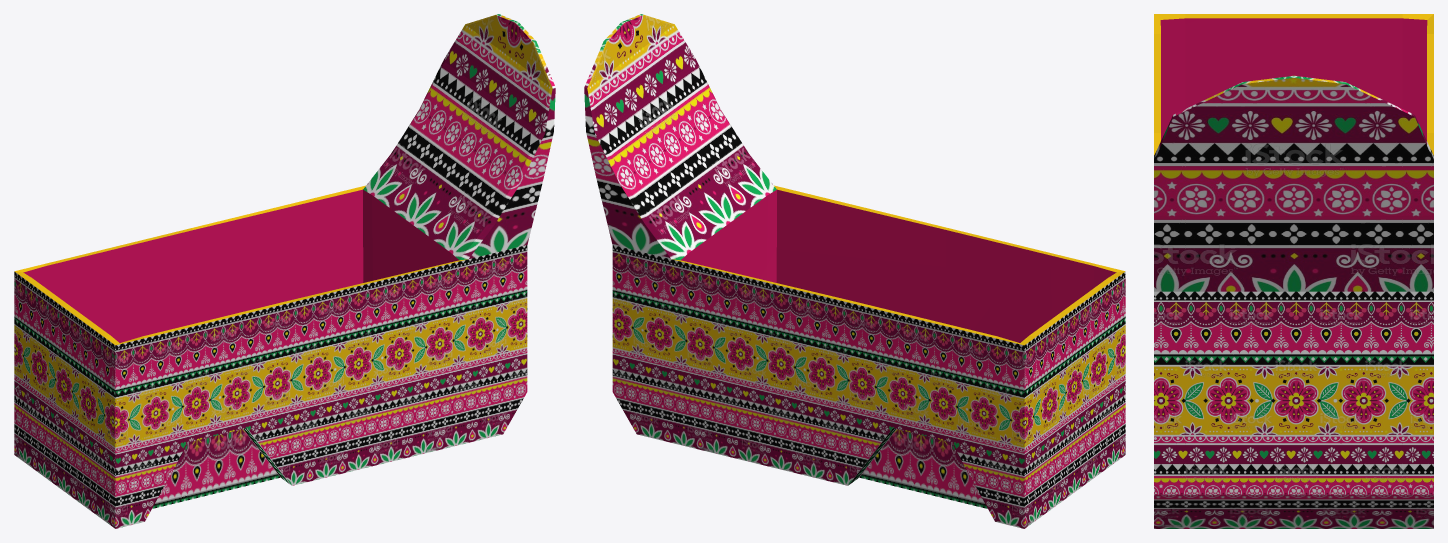
The model's file is Truck Container.fbx.
3 renders of one model, left to right at view 1: azimuth 30°, elevation 25°; view 2: azimuth 150°, elevation 25°; view 3: azimuth 270°, elevation 25°, orthographic. The views are drawn at different scales.
Visible parts, largest first — view 1: Truck Container; view 2: Truck Container; view 3: Truck Container.
Part boxes in pixels (x1,y1,x2,y2): Truck Container: (14,14,555,528); Truck Container: (584,14,1125,528); Truck Container: (1154,14,1433,528).
Size of the model in its own units: 5.18 by 3.91 by 2.
